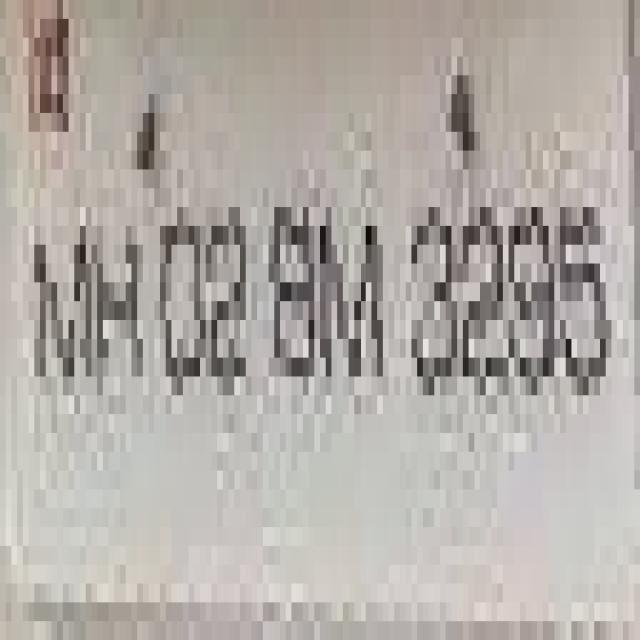license_plate: (11, 18, 640, 470)
